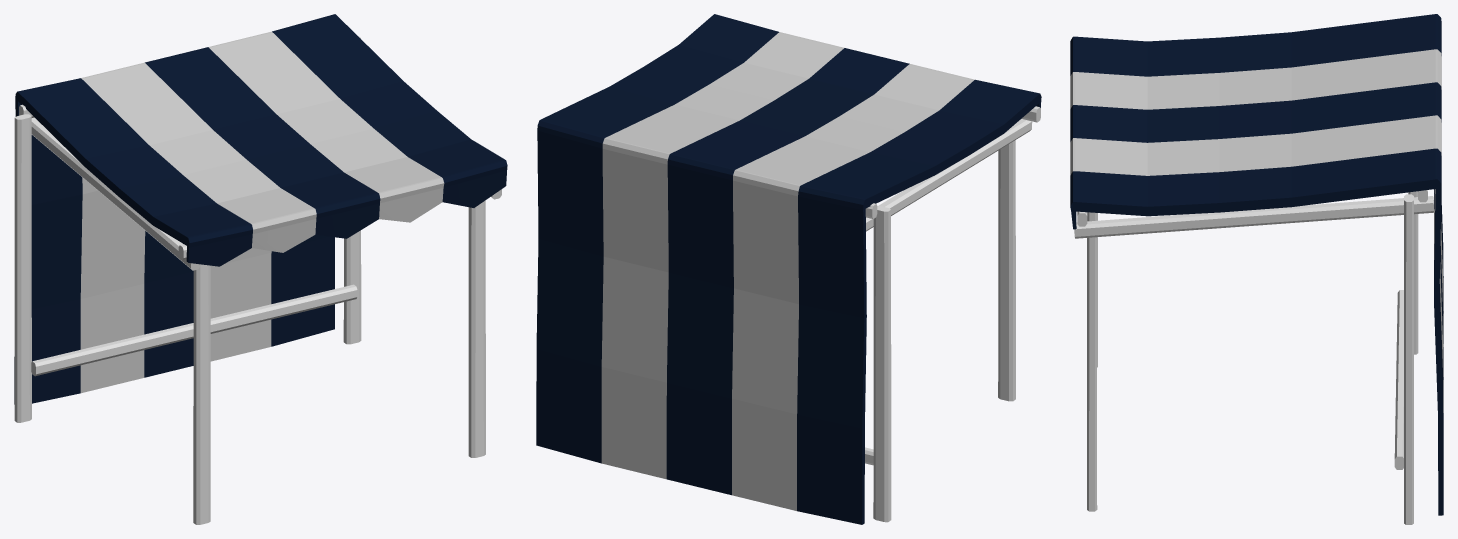
The model's file is MarketStall06.fbx.
3 views of the same model, side by side, from view 1: azimuth 30°, elevation 25°; view 2: azimuth 150°, elevation 25°; view 3: azimuth 270°, elevation 25° (orthographic). The views are drawn at different scales.
Parts seen in each view (by area): view 1: Box010, Box002; view 2: Box010, Box002; view 3: Box010, Box002.
Boxes of the visible parts, x1,y1,x2,y2 form: Box010: [14, 14, 507, 404]; Box002: [14, 36, 501, 524]; Box010: [536, 14, 1041, 524]; Box002: [865, 106, 1040, 522]; Box010: [1070, 14, 1443, 515]; Box002: [1074, 190, 1434, 524].
Bounding box in the file's own units: 301 × 268 × 267.
